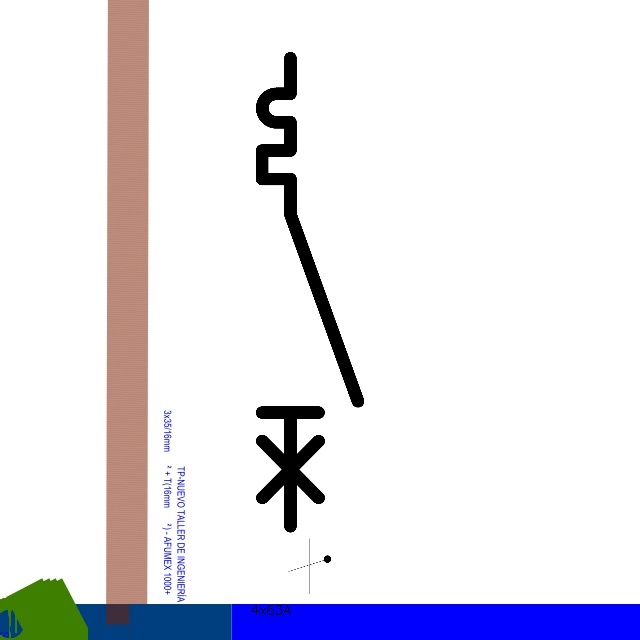interruptor_termomagnetico: (250, 46, 370, 538)
